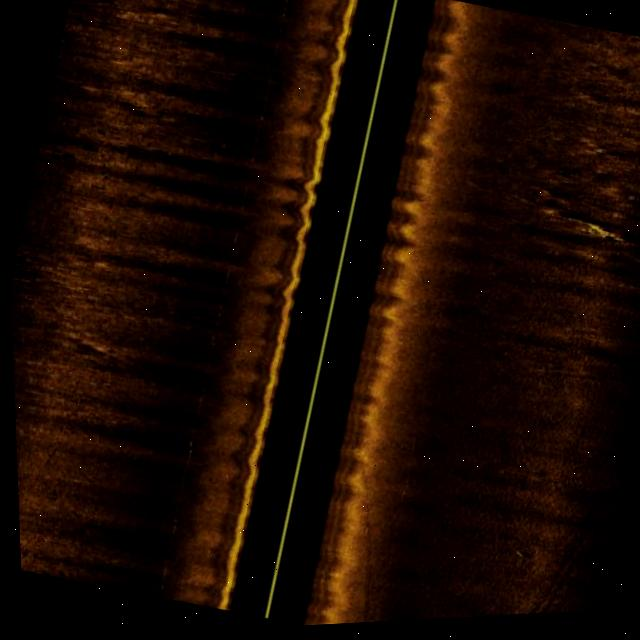mine: (506, 550, 530, 567)
